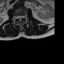CCS_normal: (19, 13, 21, 23)
LFS_normal: (23, 13, 25, 19)
LLS_normal: (21, 14, 23, 20)
RFS_normal: (14, 14, 17, 20)
RLS_normal: (17, 14, 19, 20)
